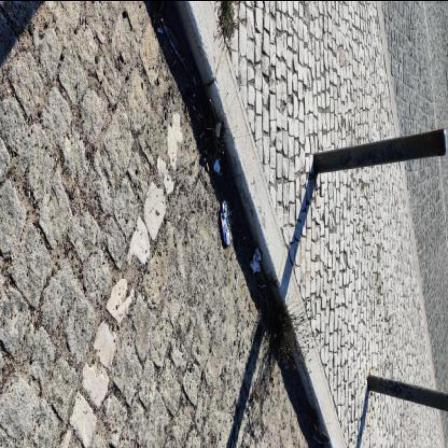Can: (222, 199, 233, 245)
Cigarette: (237, 273, 241, 289), (194, 72, 198, 86), (201, 130, 206, 139), (172, 59, 177, 68), (229, 214, 233, 225), (206, 163, 210, 173), (199, 112, 204, 118), (159, 27, 164, 33), (229, 222, 233, 229), (220, 171, 224, 176), (232, 233, 233, 241)
Paper: (252, 249, 262, 273), (216, 119, 222, 136), (216, 159, 222, 175)
Plastic bag - wrapper: (161, 19, 200, 83)
Pop tab: (225, 201, 229, 211)
